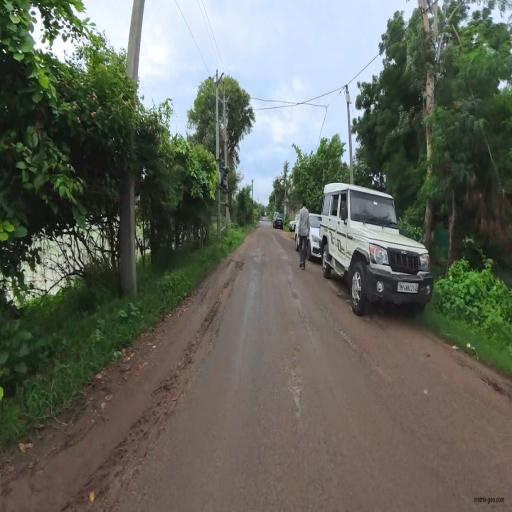edge_damage: (78, 271, 246, 500)
